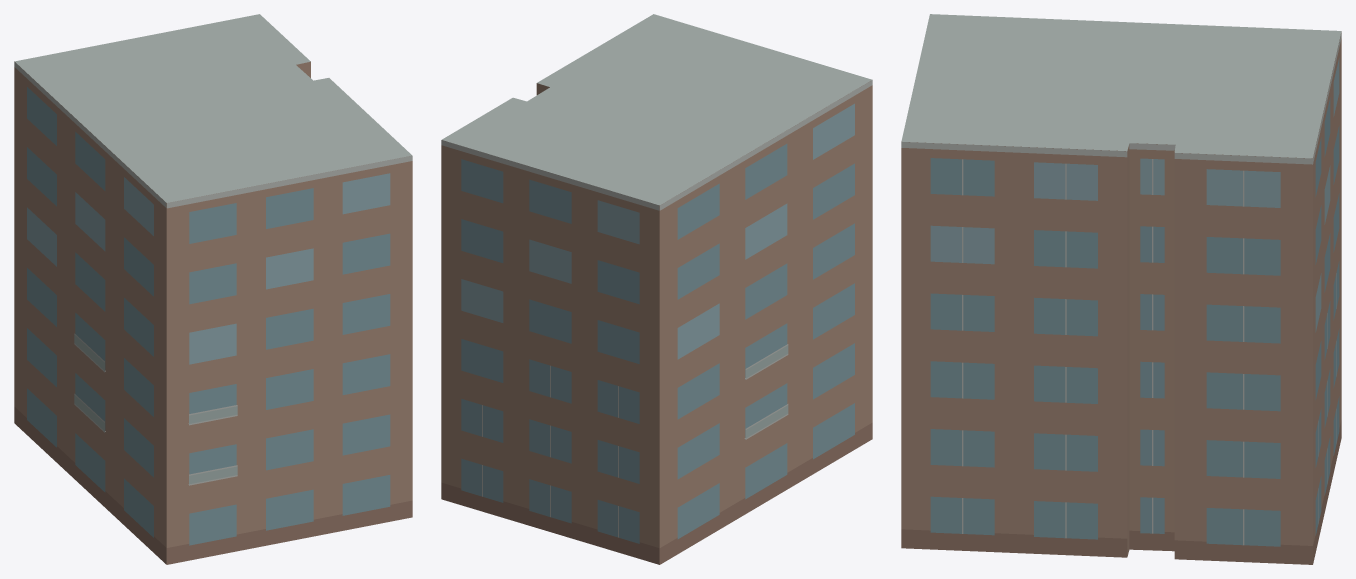
The model's file is survey-upis-32870370.glb.
3 renders of one model, left to right at view 1: azimuth 30°, elevation 25°; view 2: azimuth 150°, elevation 25°; view 3: azimuth 270°, elevation 25°, orthographic. The views are drawn at different scales.
Parts seen in each view (by area): view 1: survey-upis-32870370.tmp; view 2: survey-upis-32870370.tmp; view 3: survey-upis-32870370.tmp.
Part boxes in pixels (<box>): survey-upis-32870370.tmp: <box>14,14,412,564</box>; survey-upis-32870370.tmp: <box>441,14,872,564</box>; survey-upis-32870370.tmp: <box>901,14,1341,564</box>.
Bounding box in the file's own units: 12.43 × 16.3 × 16.01.
